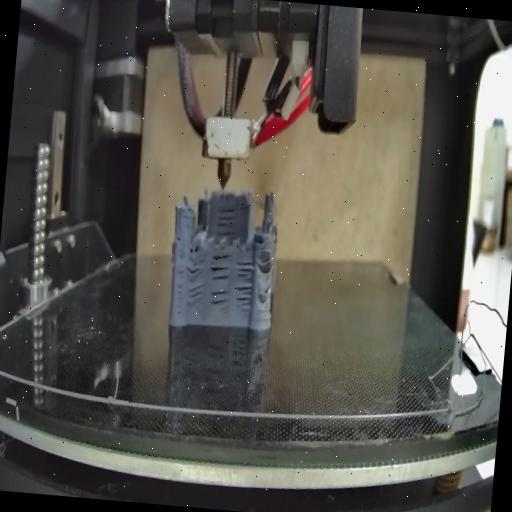cracks: (232, 258, 256, 316), (213, 198, 238, 236), (206, 246, 232, 282), (174, 252, 188, 318), (186, 250, 206, 280), (208, 288, 230, 313), (188, 282, 206, 306), (262, 254, 275, 272), (264, 283, 272, 296), (177, 230, 183, 246)
